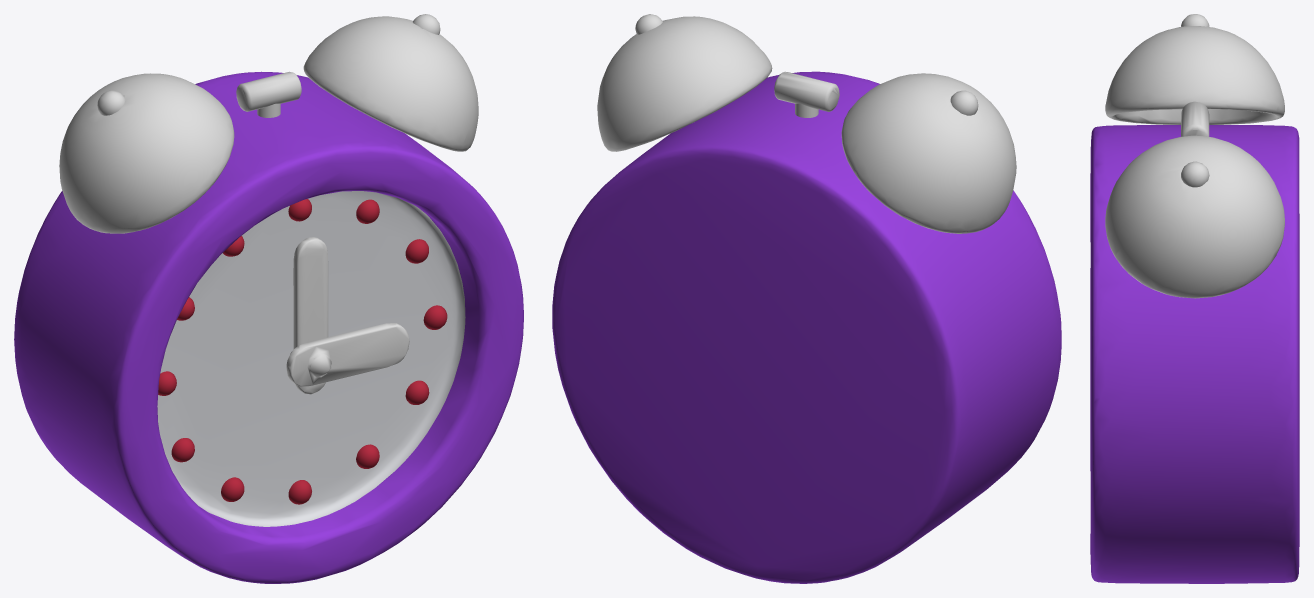
The model's file is clock.glb.
The picture shows the model from 3 angles, left to right: view 1: azimuth 30°, elevation 25°; view 2: azimuth 150°, elevation 25°; view 3: azimuth 270°, elevation 25°; orthographic projection. The views are drawn at different scales.
Parts seen in each view (by area): view 1: Clock; view 2: Clock; view 3: Clock.
Part boxes in pixels (<box>): Clock: <box>14,14,523,583</box>; Clock: <box>552,14,1061,583</box>; Clock: <box>1090,14,1299,583</box>.
Bounding box in the file's own units: 1.68 × 1.91 × 0.7633.
